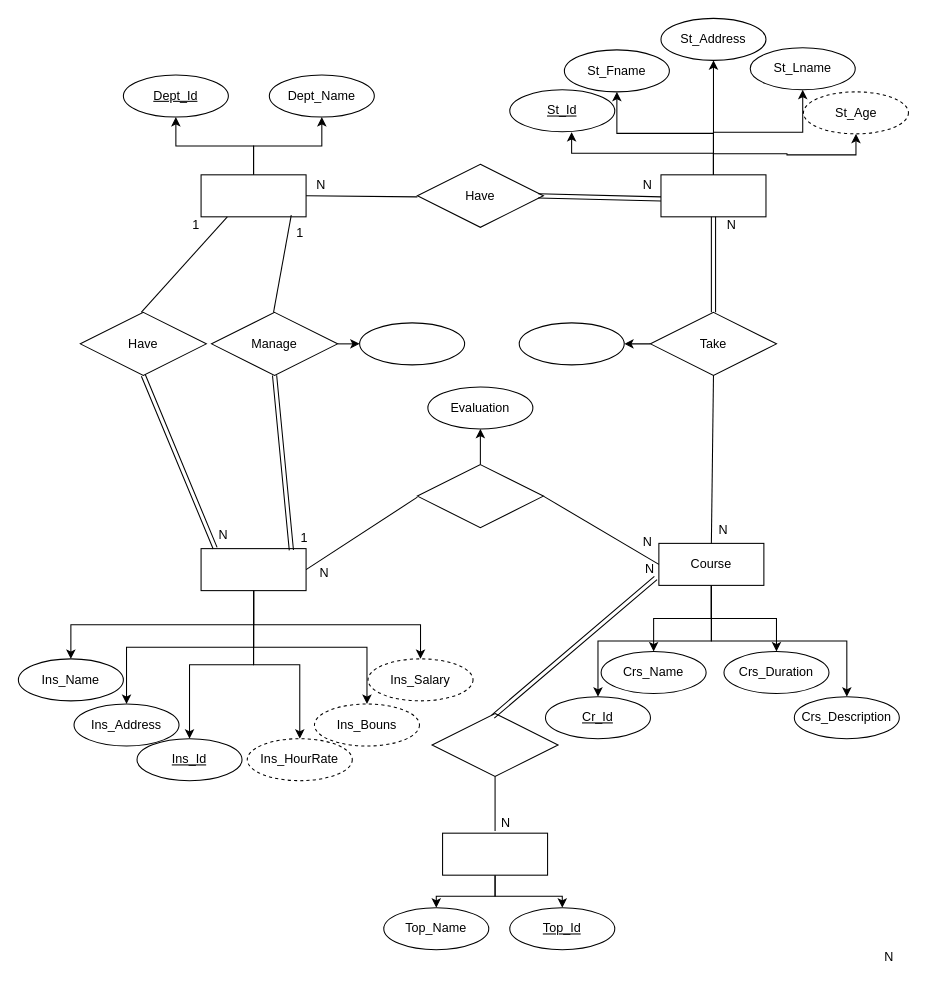
Image size: 927x1004. Some labels were removed from this diagram. Here are the shapes that lost their labels. From the top down, the centre of each, then its label:
At point 253,195: "Department".
At point 713,195: "Student".
At point 412,343: "HiringDate".
At point 571,343: "Grade".
At point 479,496: "Teach".
At point 253,569: "Instructor".
At point 494,744: "Classified".
At point 495,853: "Topic".
